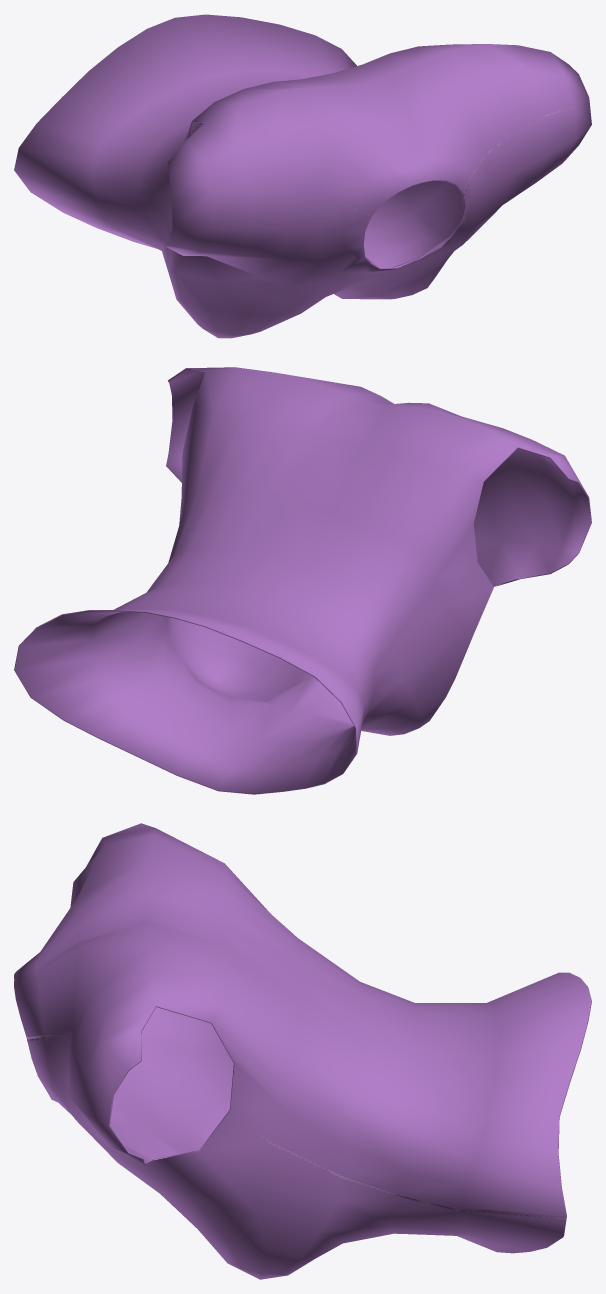
The model's file is runicArmor.fbx.
The picture shows the model from 3 angles, top to bottom: view 1: azimuth 30°, elevation 25°; view 2: azimuth 150°, elevation 25°; view 3: azimuth 270°, elevation 25°; orthographic projection. The views are drawn at different scales.
Parts seen in each view (by area): view 1: runicArmor; view 2: runicArmor; view 3: runicArmor.
Boxes of the visible parts, x1,y1,x2,y2 form: runicArmor: (14, 14, 591, 338); runicArmor: (14, 367, 591, 794); runicArmor: (14, 823, 591, 1279).
Bounding box in the file's own units: 0.3488 × 0.2313 × 0.3576.
1 material, 1 textured.
